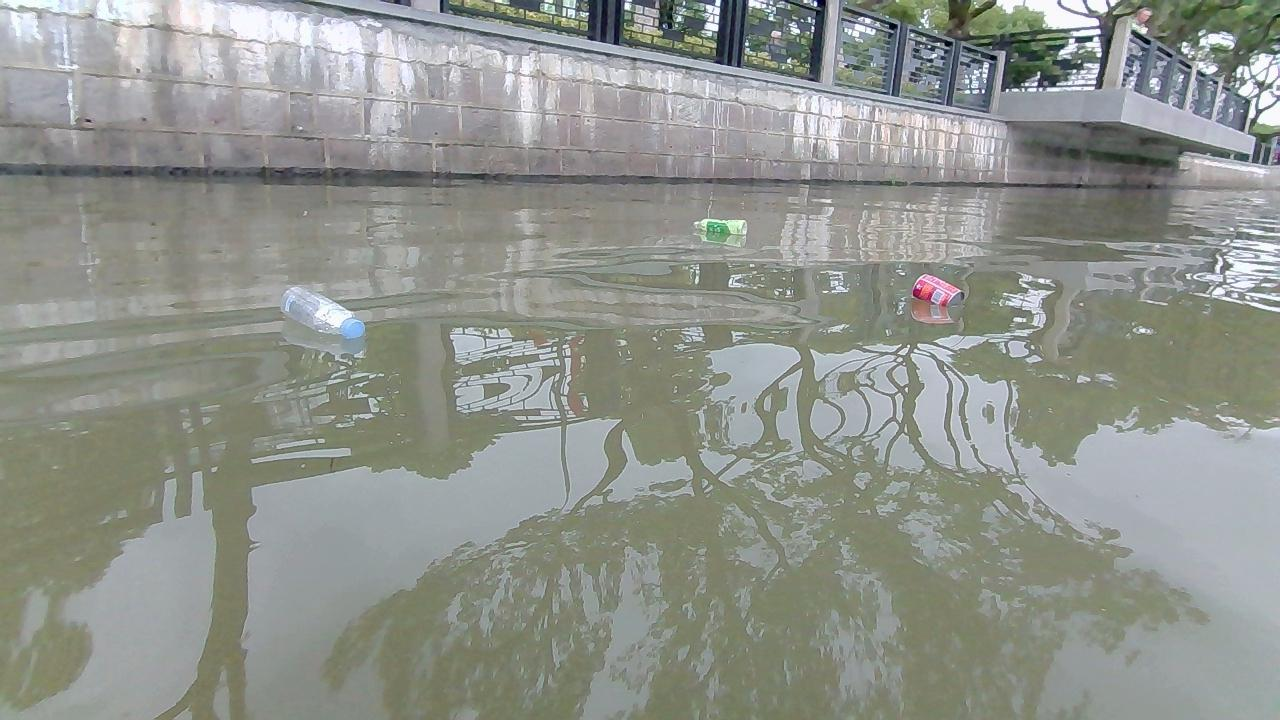Metal: (911, 271, 966, 310)
Plastic: (278, 283, 367, 341), (693, 218, 750, 235)
